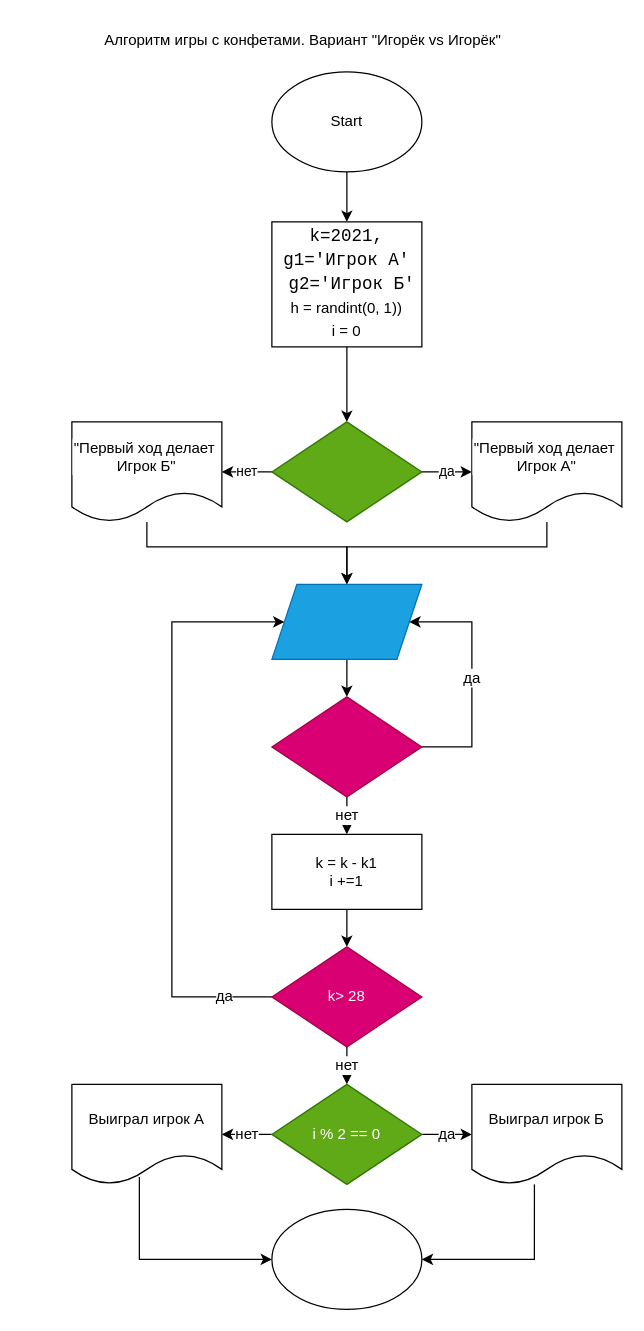
Some shapes in this 644 by 1331 pixel diagram are drawn without their labels. The shapes that lost their labels are listed below. From the top down, each one's box as (x1, y1, x2, y2) in pixels, then its label:
(271, 421, 422, 522): h == 0
(271, 583, 422, 659): k = input (количество конфет)
(271, 696, 422, 797): k > 28
(271, 1208, 422, 1309): end
